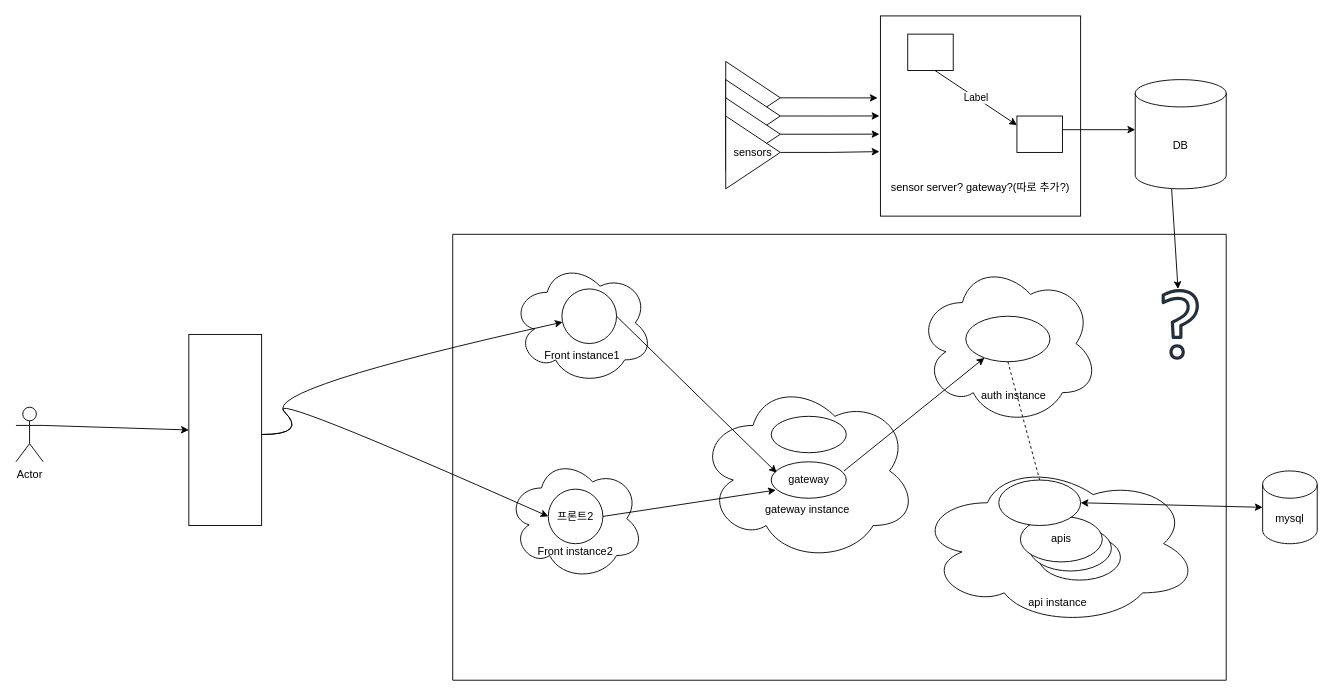
The diagram is 1333 pixels wide and 696 high, and some of its shapes have lost their labels. Here are the shapes that lost their labels. From the top down, the centre of each, then its label:
At pixel 930 52: "node No.0".
At pixel 1039 133: "node No.n".
At pixel 589 316: "프론트1".
At pixel 1007 338: "auth".
At pixel 225 430: "로드 밸런서".
At pixel 808 434: "유레카".
At pixel 1039 502: "account".
